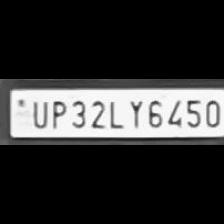0: (202, 96, 222, 128)
2: (87, 97, 105, 129)
3: (68, 97, 86, 129)
4: (164, 96, 182, 128)
5: (182, 96, 202, 128)
6: (144, 97, 162, 129)
L: (106, 97, 124, 129)
P: (46, 96, 68, 128)
U: (28, 98, 48, 128)
Y: (125, 97, 143, 129)
